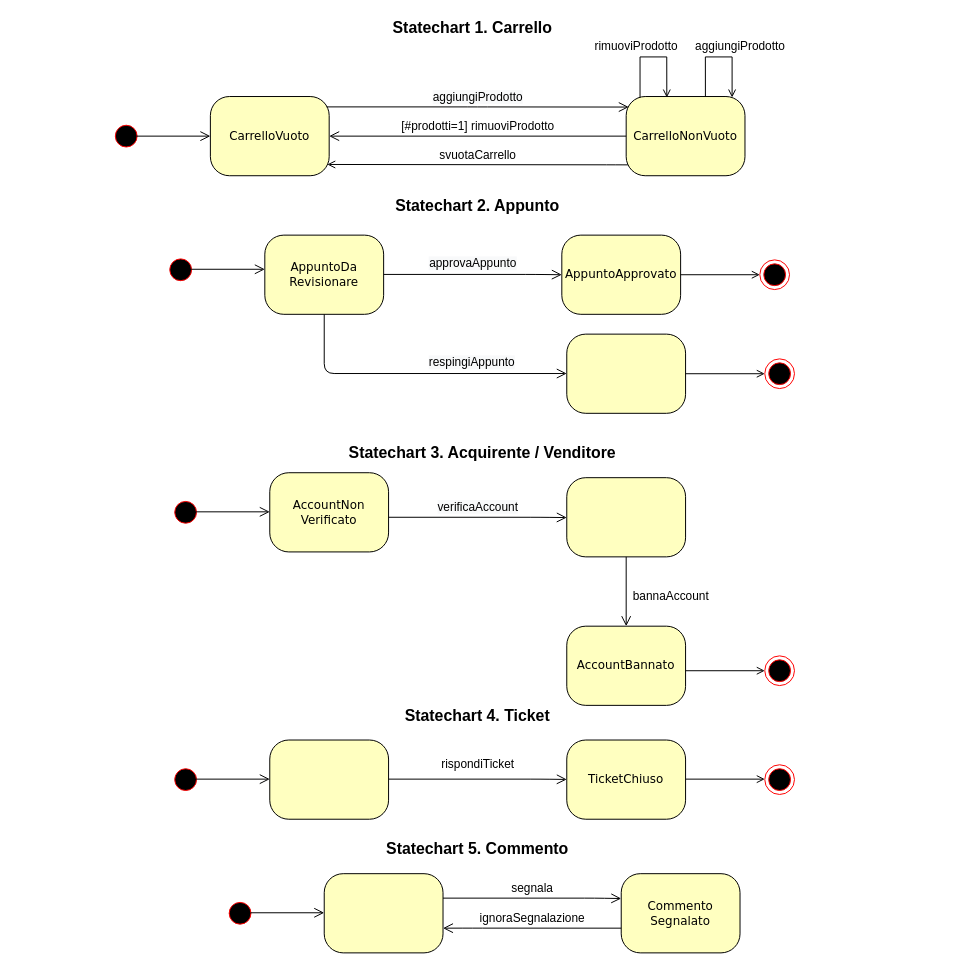
Image size: 954x970. Some labels were removed from this diagram. Here are the shapes that lost their labels. From the top down, the centre of each, then its label:
the point at 626,373: AppuntoRespinto
the point at 626,517: AccountVerificato
the point at 329,779: TicketAperto
the point at 383,913: CommentoNon Segnalato
